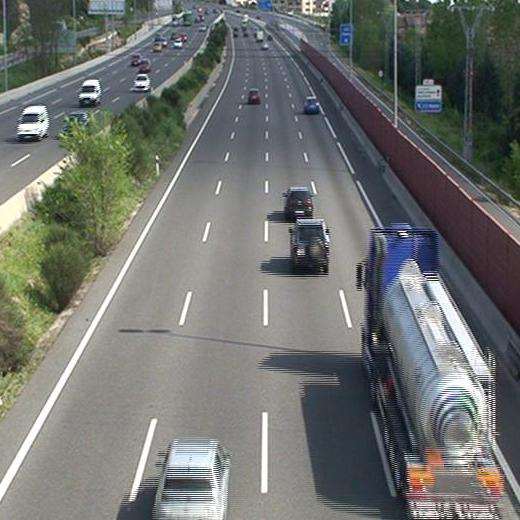car: (152, 438, 230, 520), (289, 221, 330, 273), (283, 187, 314, 219), (302, 95, 318, 113), (247, 87, 261, 106)
tank-truck: (355, 224, 520, 520)
